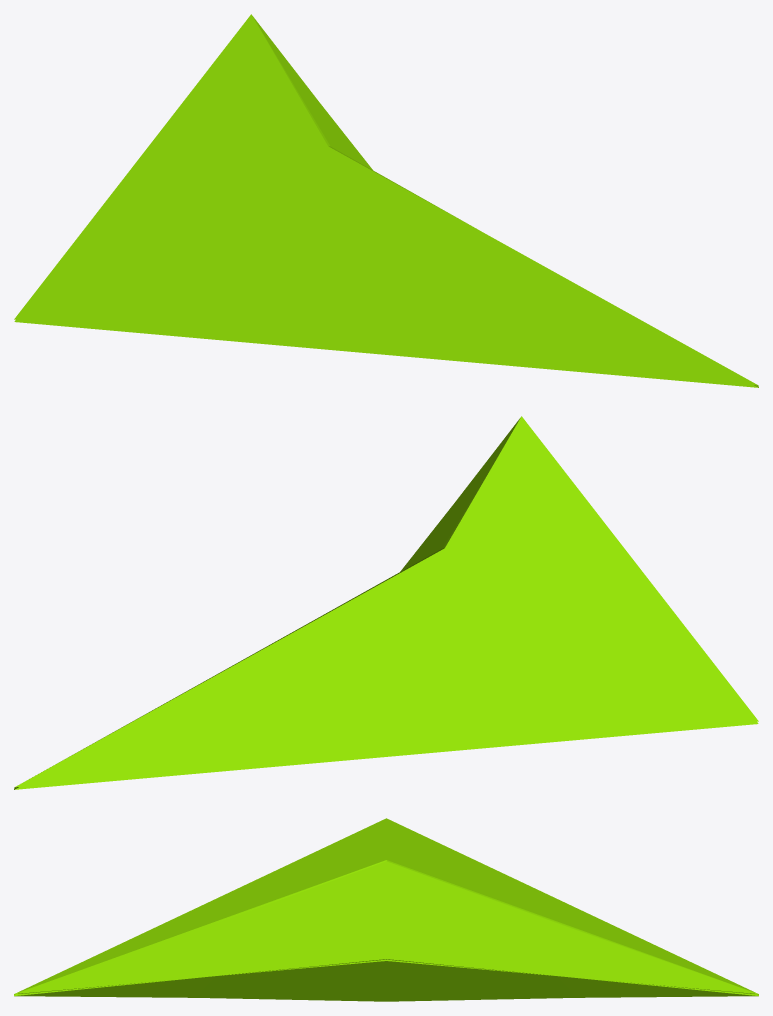
The model's file is arrow.fbx.
The picture shows the model from 3 angles, top to bottom: view 1: azimuth 30°, elevation 25°; view 2: azimuth 150°, elevation 25°; view 3: azimuth 270°, elevation 25°; orthographic projection. The views are drawn at different scales.
Parts seen in each view (by area): view 1: Cube; view 2: Cube; view 3: Cube.
Part boxes in pixels (x1=…): Cube: x1=14, y1=14, x2=758, y2=387; Cube: x1=14, y1=416, x2=758, y2=789; Cube: x1=14, y1=818, x2=758, y2=1001.
Bounding box in the file's own units: 200 × 75.15 × 358.
